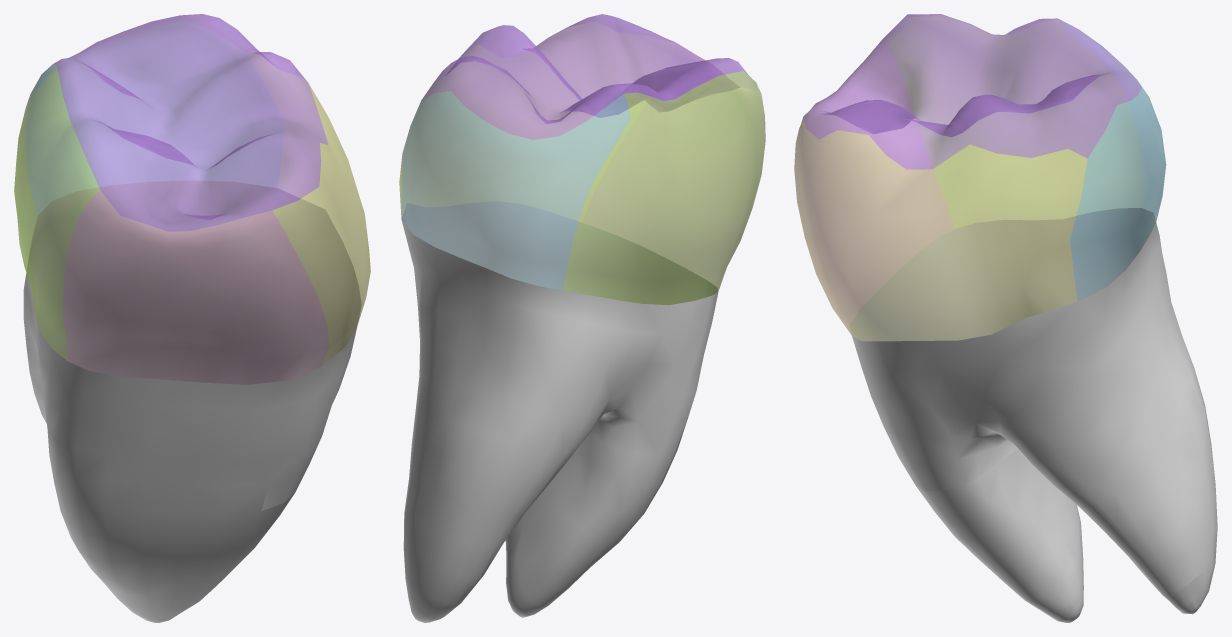
Rendered from tooth_36_annotated.glb.
The picture shows the model from 3 angles, left to right: view 1: azimuth 30°, elevation 25°; view 2: azimuth 150°, elevation 25°; view 3: azimuth 270°, elevation 25°; orthographic projection. The views are drawn at different scales.
Visible parts, largest first — view 1: Tooth_Surface; view 2: Tooth_Surface; view 3: Tooth_Surface.
Part boxes in pixels (x1,y1,x2,y2): Tooth_Surface: [14, 14, 370, 622]; Tooth_Surface: [399, 14, 765, 622]; Tooth_Surface: [794, 14, 1217, 622].
Bounding box in the file's own units: 0.0106 × 0.0182 × 0.0125.
